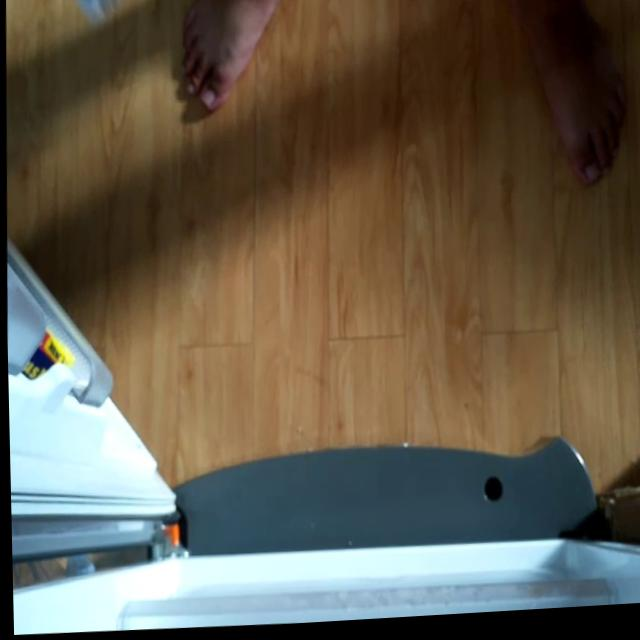milk: (72, 0, 143, 30)
